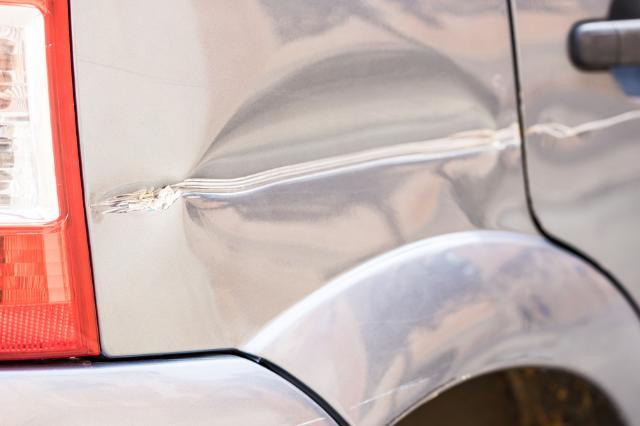Fender: (104, 11, 531, 243)
